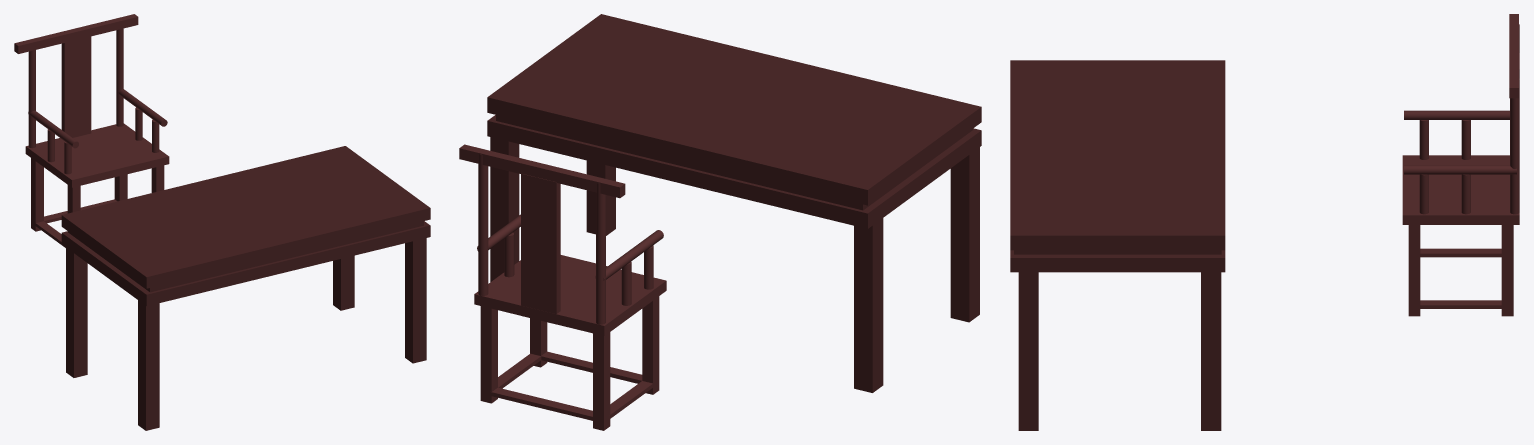
The model's file is table and chair.fbx.
3 views of the same model, side by side, from view 1: azimuth 30°, elevation 25°; view 2: azimuth 150°, elevation 25°; view 3: azimuth 270°, elevation 25° (orthographic). The views are drawn at different scales.
Parts seen in each view (by area): view 1: pCube38, polySurface59; view 2: pCube38, polySurface59; view 3: pCube38, polySurface59.
Boxes of the visible parts, box(x1,y1,x2,y2) form: pCube38: box(61, 146, 430, 430); polySurface59: box(14, 14, 169, 247); pCube38: box(487, 14, 981, 392); polySurface59: box(459, 144, 666, 430); pCube38: box(1010, 60, 1225, 430); polySurface59: box(1402, 14, 1519, 316).
Bounding box in the file's own units: 33 × 24.94 × 40.49.
